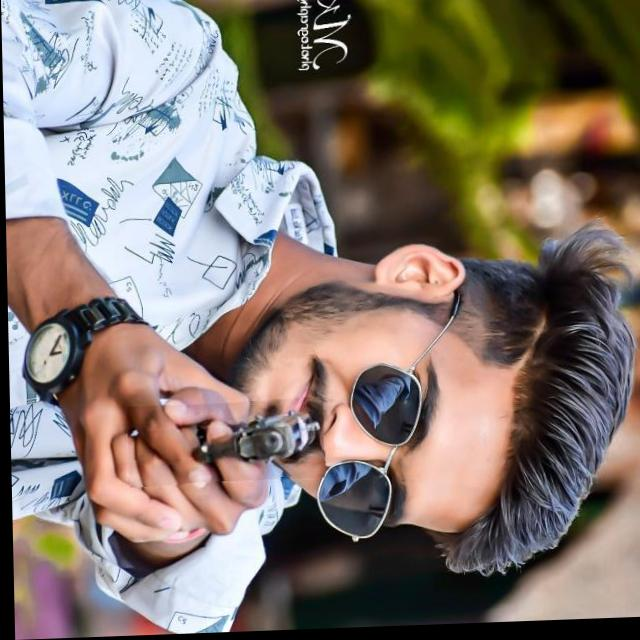handgun: (123, 400, 322, 487)
